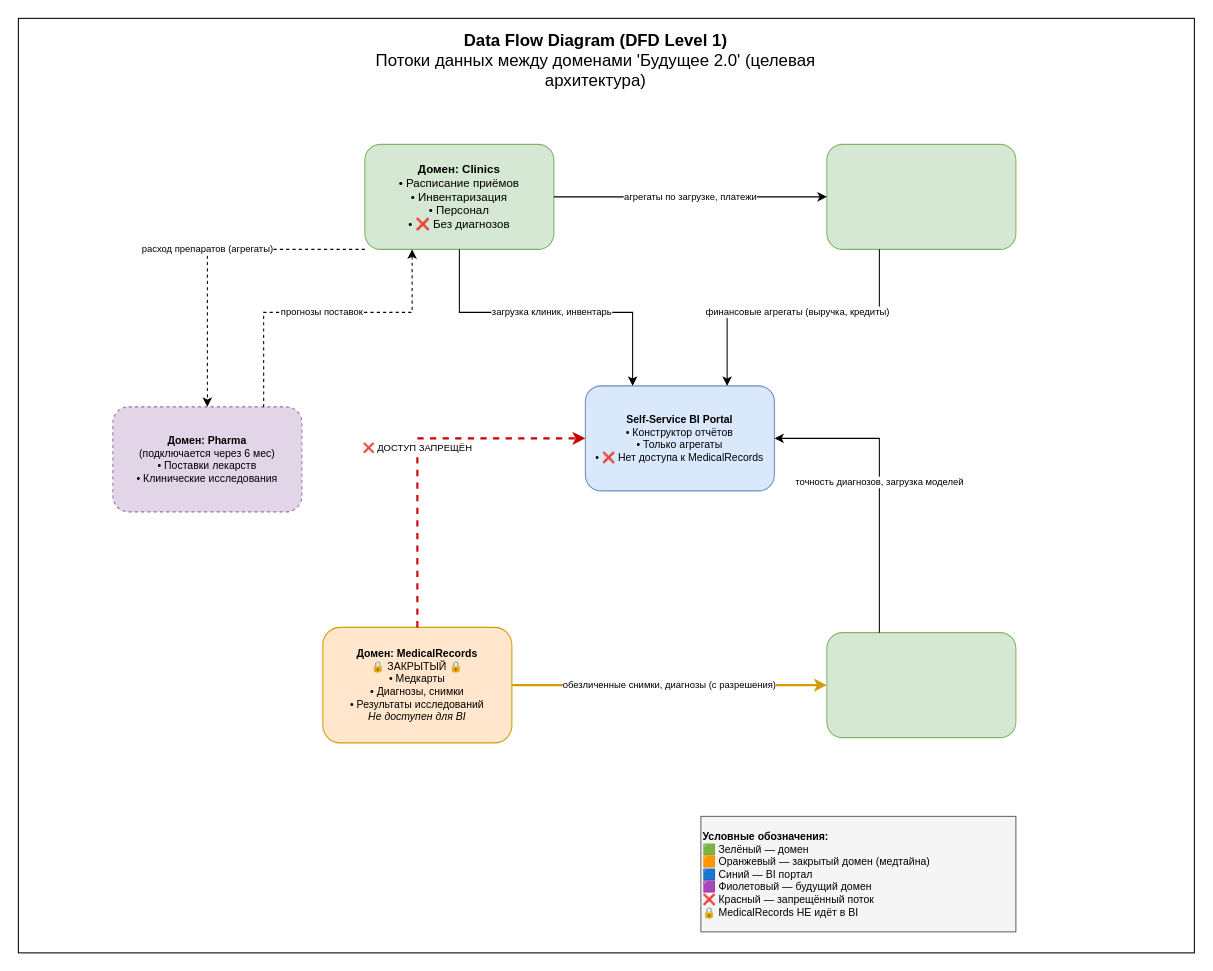
The diagram is 1213 pixels wide and 971 high, and some of its shapes have lost their labels. The shapes that lost their labels are listed below. From the top down, each one's box as (x1, y1, x2, y2) in pixels, then its label:
(826, 143, 1016, 249): Домен: Fintech • Счета, кредиты • Транзакции • Кредитные профили
(826, 632, 1016, 738): Домен: AI Services • Модели ИИ • Инференс • Метрики качества
